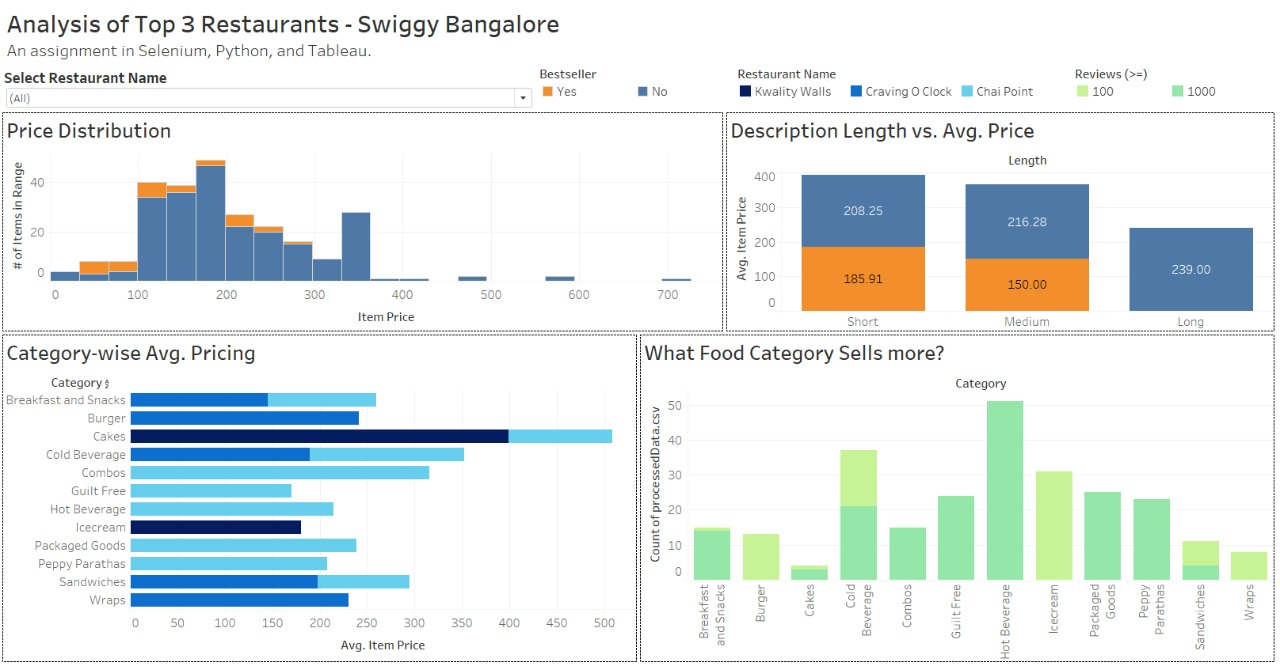

What the dashboard file says about the page in this screenshot:
{"tool":"tableau","page":{"name":"Dashboard 1","canvas":[1000,1000],"units":"permille","ordinal":0},"visuals":[{"type":"title","box":[4.9,9.4,990.2,90.5]},{"type":"filter","title":"Price Distribution","param":"[federated.0b3iauv14bf4fb18ud38v0fvhdej].[none:restName:nk]","box":[4.9,99.9,417,69.3]},{"type":"legend","title":"Price Distribution","param":"[federated.0b3iauv14bf4fb18ud38v0fvhdej].[none:itemBest:ok]","box":[421.9,99.9,153.8,69.3]},{"type":"legend","title":"Category-wise Avg. Pricing","param":"[federated.0b3iauv14bf4fb18ud38v0fvhdej].[none:restName:nk]","box":[575.6,99.9,262,69.3]},{"type":"legend","title":"What Food Category Sells more?","param":"[federated.0b3iauv14bf4fb18ud38v0fvhdej].[none:minRevCount:ok]","box":[837.6,99.9,157.4,69.3]},{"type":"worksheet","title":"Price Distribution","mark":"Automatic","rows":["itemPrice"],"cols":["Item Price (bin)"],"box":[4.9,169.2,562.2,330.2]},{"type":"worksheet","title":"Description Length vs. Avg. Price","mark":"Bar","rows":["itemPrice"],"cols":["Desc Length (bin)"],"box":[567.1,169.2,428,330.2]},{"type":"worksheet","title":"Category-wise Avg. Pricing","mark":"Automatic","rows":["itemCat"],"cols":["itemPrice"],"box":[4.9,499.4,495.1,491.2]},{"type":"worksheet","title":"What Food Category Sells more?","mark":"Bar","rows":["processedData.csv_95E992D561AC4032A02BCCC05E499A40"],"cols":["itemCat"],"box":[500,499.4,495.1,491.2]}]}

Visuals, with their boxes on the dashboard's canvas, which has no fixed pixel size, in thousandths of its width and height (x1, y1, x2, y2). These are canvas units, not pixel positions in the 1280x666 screenshot, which may show the page scaled, cropped or inside an application window:
title: box=[5, 9, 995, 100]
"Price Distribution" filter: box=[5, 100, 422, 169]
"Price Distribution" legend: box=[422, 100, 576, 169]
"Category-wise Avg. Pricing" legend: box=[576, 100, 838, 169]
"What Food Category Sells more?" legend: box=[838, 100, 995, 169]
"Price Distribution" worksheet: box=[5, 169, 567, 499]
"Description Length vs. Avg. Price" worksheet (Bar marks): box=[567, 169, 995, 499]
"Category-wise Avg. Pricing" worksheet: box=[5, 499, 500, 991]
"What Food Category Sells more?" worksheet (Bar marks): box=[500, 499, 995, 991]
